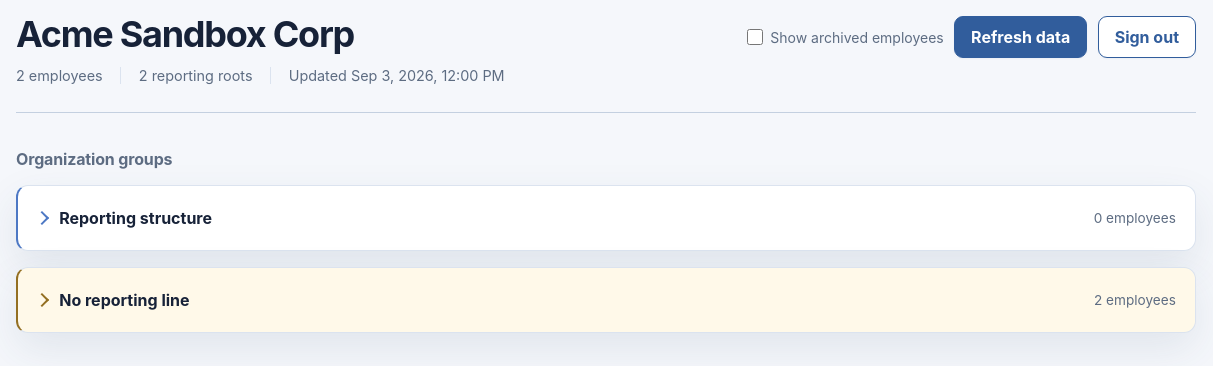
Test case: OrgChart › hides archived employees by default and reveals them on request
Expected: the text "2 employees" next to "2 reporting roots" is shown, top-left (16, 67), bottom-right (103, 84)
Expected: the text "2 reporting roots" is shown, top-left (139, 67), bottom-right (271, 84)
Click the checkbox labelled "Show archived employees".
click(755, 37)  # box top-left (747, 29), bottom-right (763, 45)
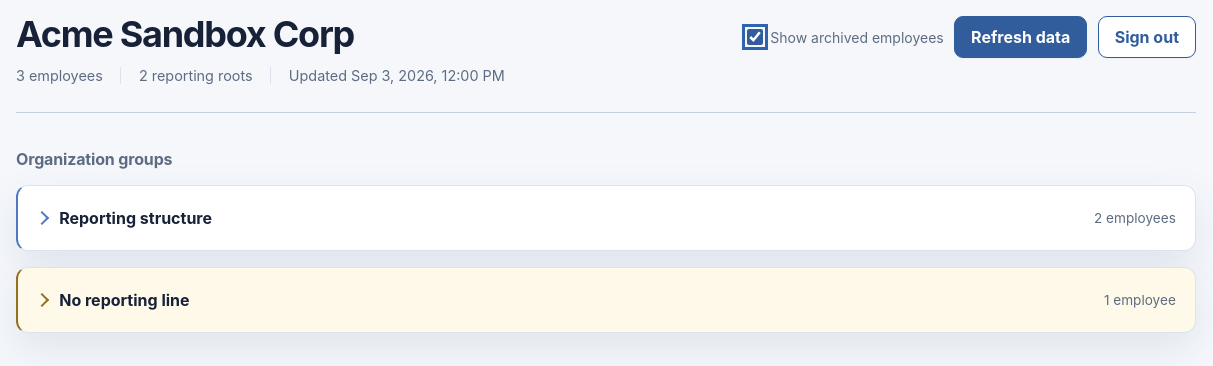
Expected: the text "2 reporting roots" is shown, top-left (139, 67), bottom-right (271, 84)
Expected: the checkbox labelled "Show archived employees" is checked, top-left (747, 29), bottom-right (763, 45)
Expected: the text "3 employees" is shown, top-left (16, 67), bottom-right (121, 84)
